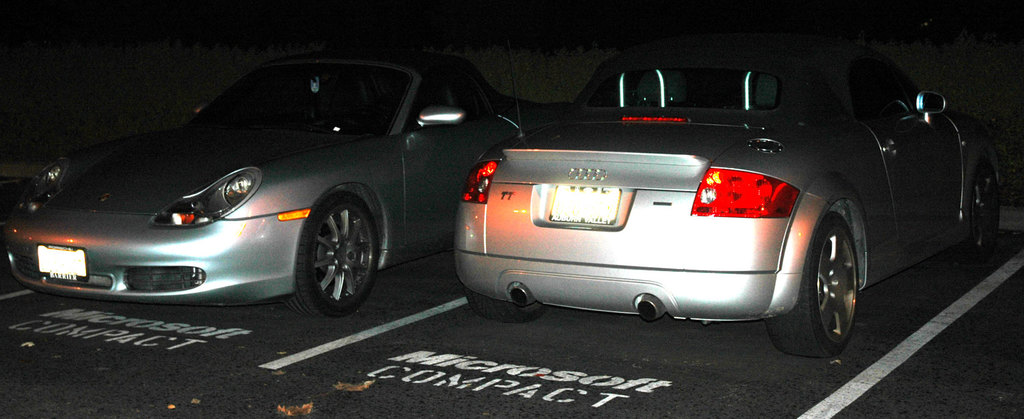Car: (437, 58, 959, 350), (0, 47, 506, 313)
